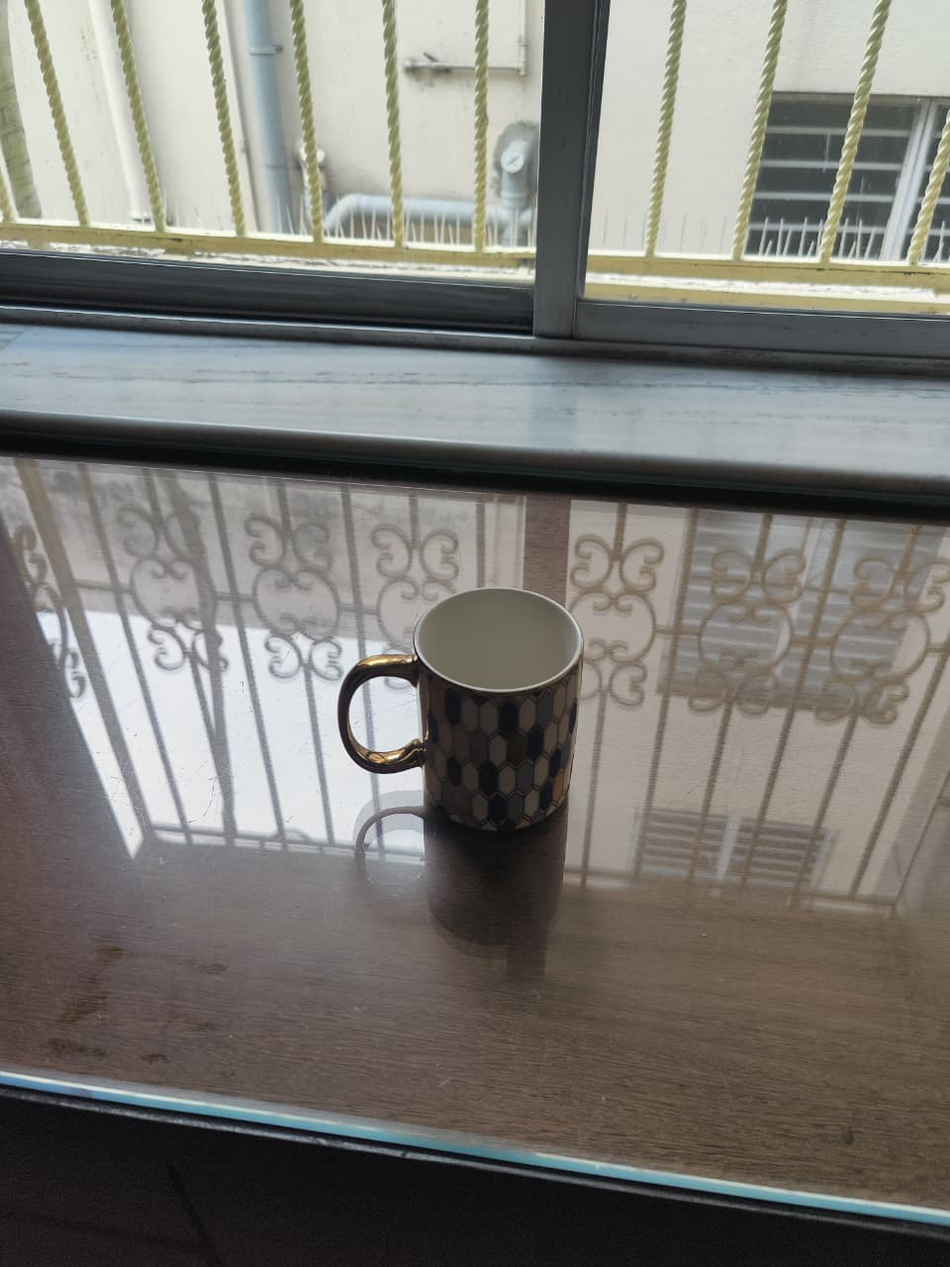cup: (339, 588, 583, 831)
